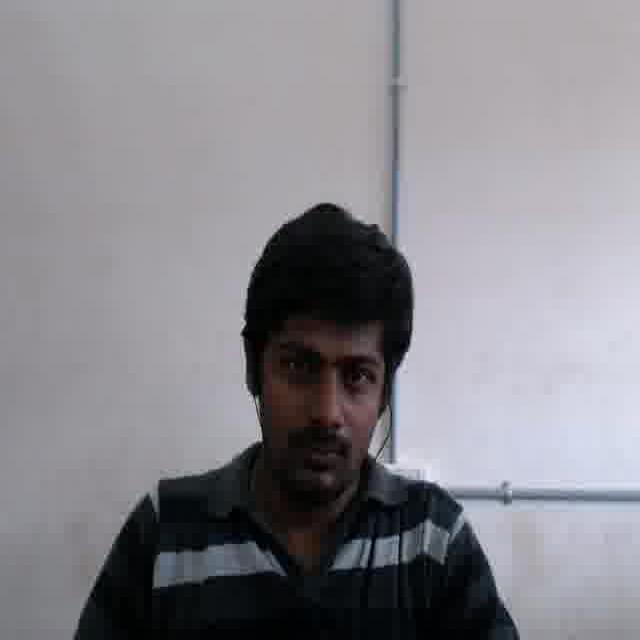Engaged: (261, 305, 381, 500)
